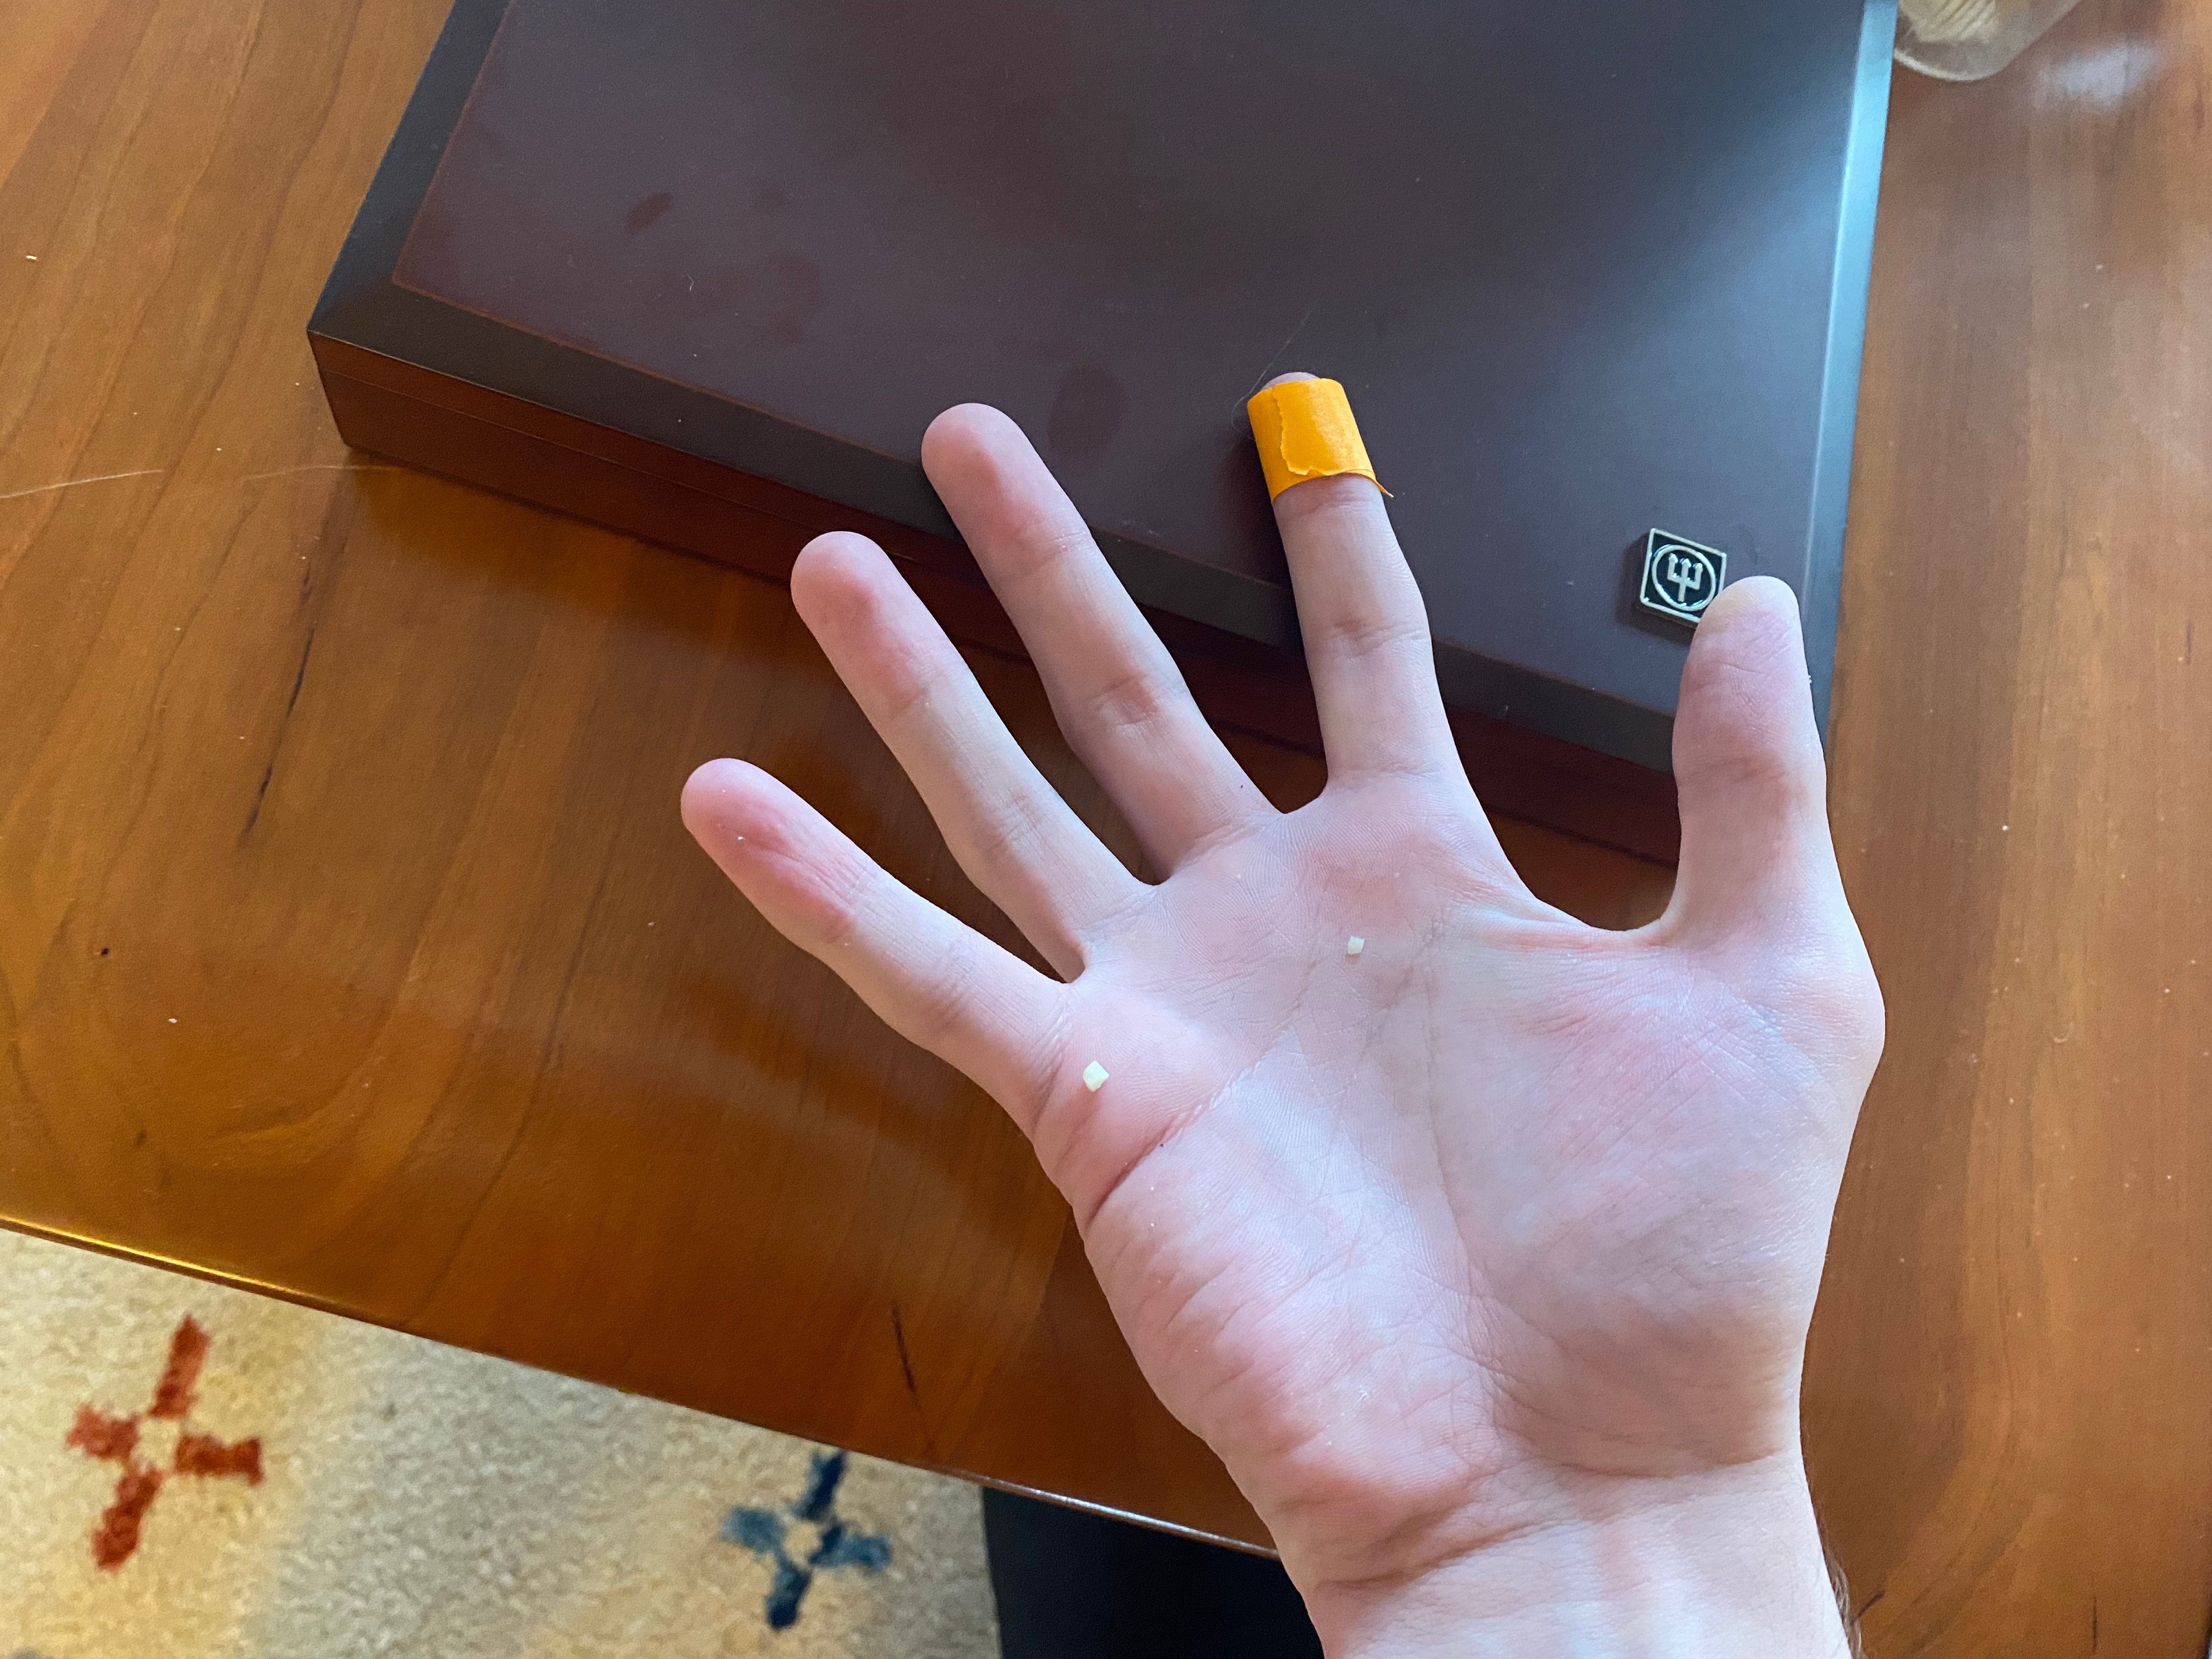fingertip: (1221, 350, 1420, 519)
